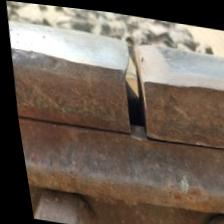person: (55, 18, 209, 156)
